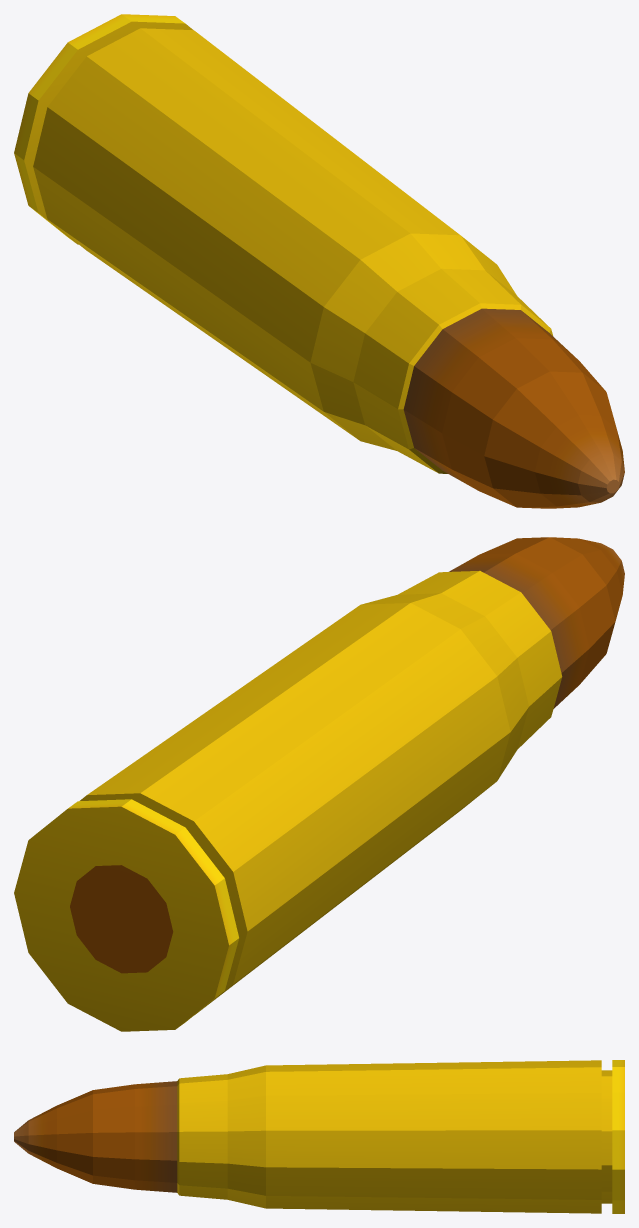
The model's file is SM_Wpn_Bullet_02.fbx.
The picture shows the model from 3 angles, top to bottom: view 1: azimuth 30°, elevation 25°; view 2: azimuth 150°, elevation 25°; view 3: azimuth 270°, elevation 25°; orthographic projection. The views are drawn at different scales.
Visible parts, largest first — view 1: SM_Wpn_Bullet_02; view 2: SM_Wpn_Bullet_02; view 3: SM_Wpn_Bullet_02.
Part boxes in pixels (<box>): SM_Wpn_Bullet_02: <box>14,14,624,508</box>; SM_Wpn_Bullet_02: <box>14,537,624,1031</box>; SM_Wpn_Bullet_02: <box>14,1060,624,1213</box>.
Size of the model in its own units: 0.0591 by 0.0591 by 0.2338.
